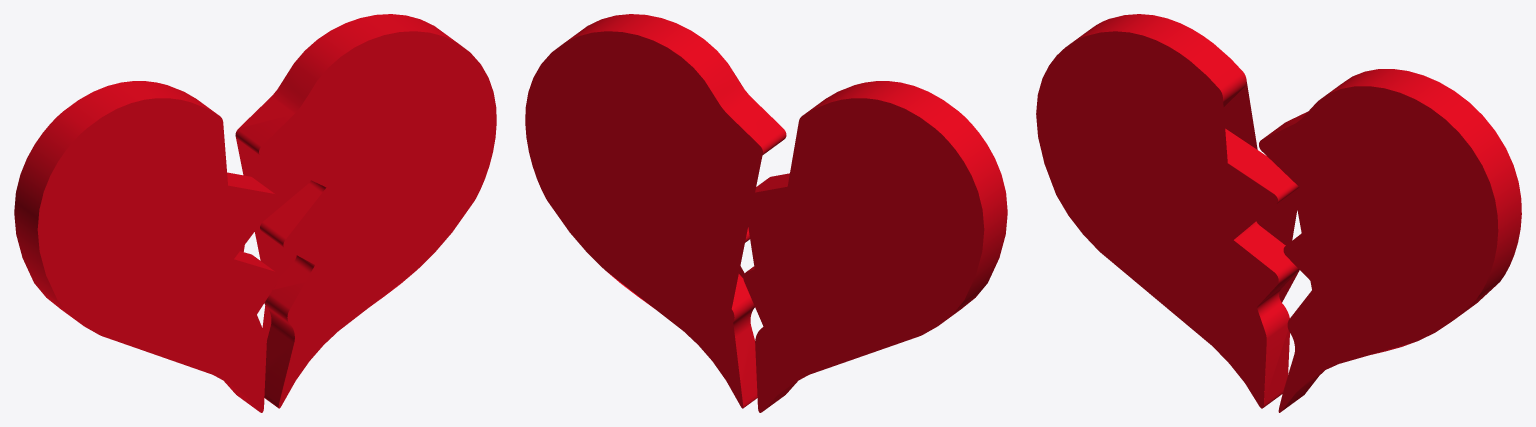
File: broken-heart-shape-in-two-pieces.fbx
3 views of the same model, side by side, from view 1: azimuth 30°, elevation 25°; view 2: azimuth 150°, elevation 25°; view 3: azimuth 330°, elevation 25° (orthographic).
Parts seen in each view (by area): view 1: Curve.001; view 2: Curve.001; view 3: Curve.001.
Part boxes in pixels (x1,y1,x2,y2): Curve.001: [14, 14, 496, 412]; Curve.001: [525, 14, 1007, 412]; Curve.001: [1036, 14, 1521, 412].
Size of the model in its own units: 107 by 77.51 by 9.48.
